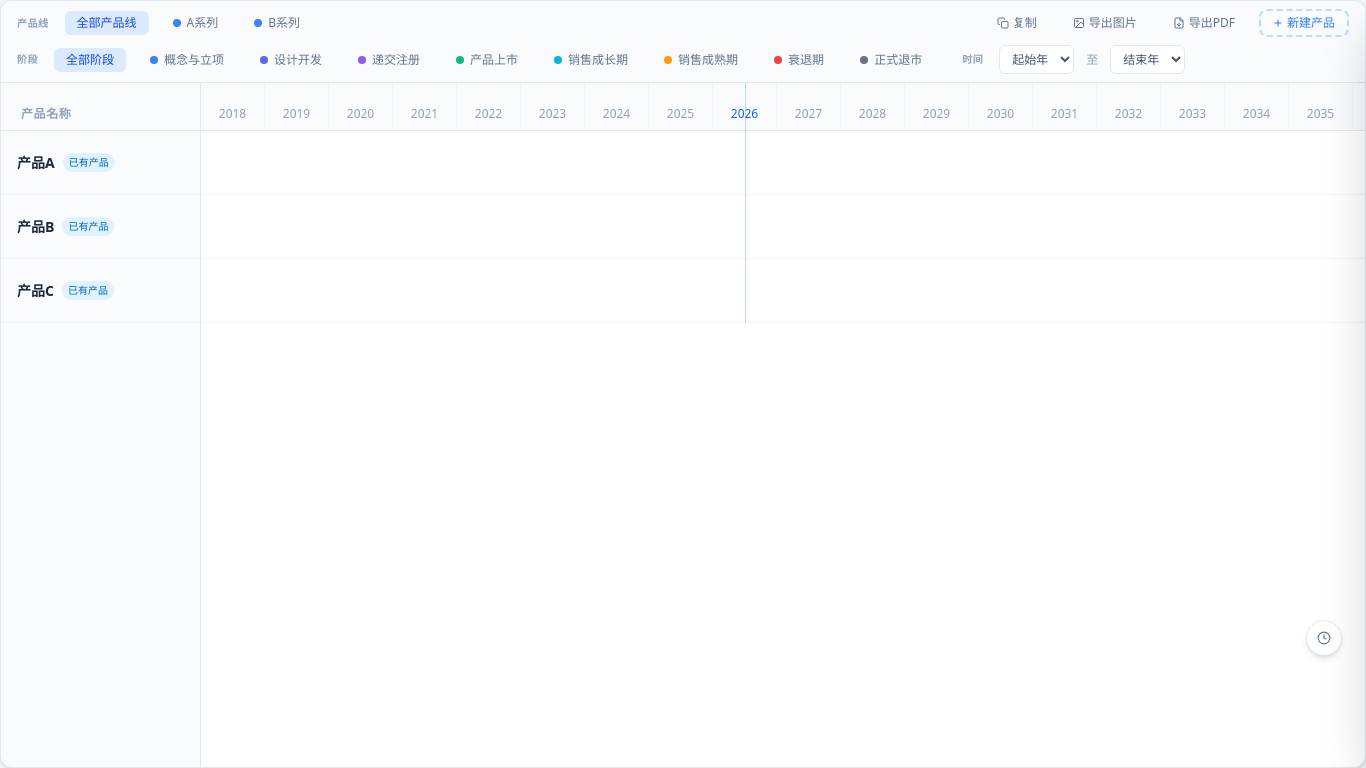
Scenario: RoadmapGantt filter › product line filter › filters products when a product line is selected
Click the button "A系列" at {"x": 195, "y": 23}, box [160,11,230,35]
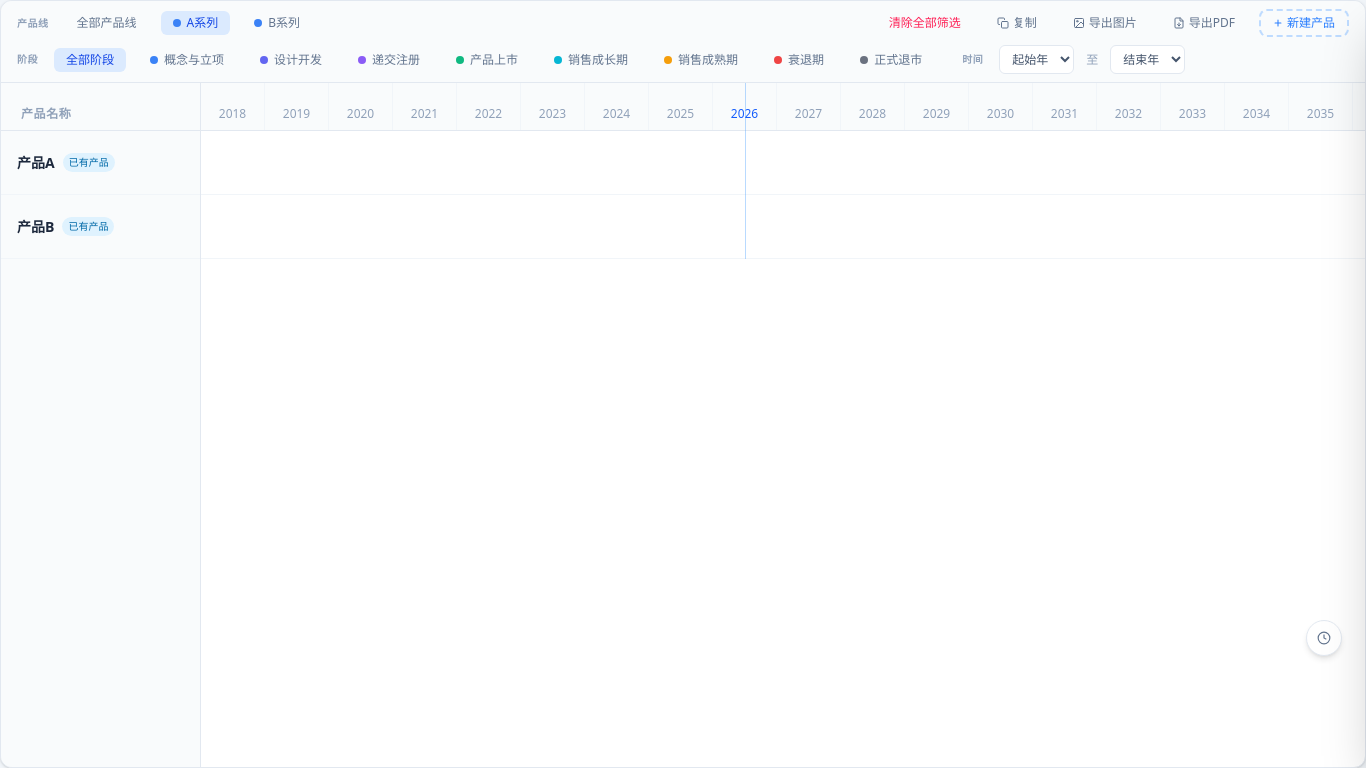
Expected: the text "产品A" is shown, [17,152,55,172]
Expected: the text "产品C" is gone
